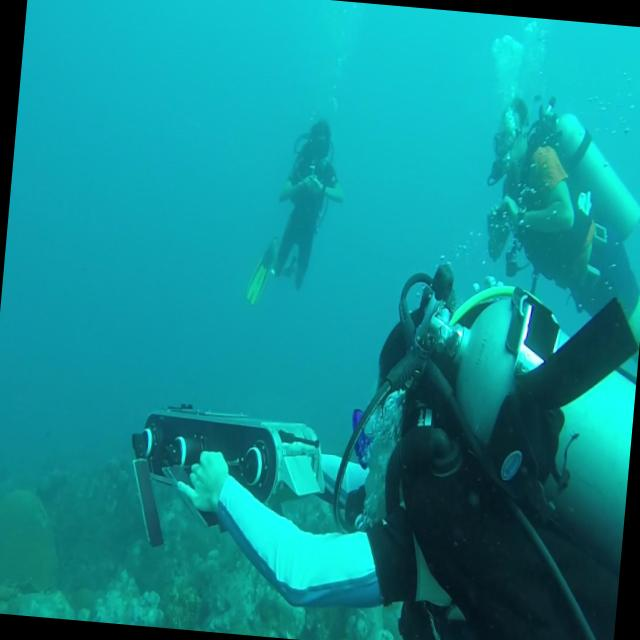human: (162, 249, 640, 640), (471, 89, 640, 370), (244, 112, 350, 312)
